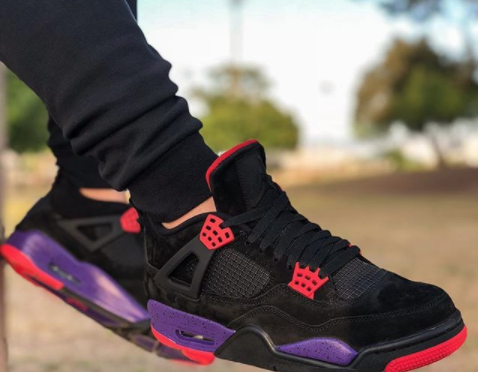Air Jordan 4 Raptors: (127, 137, 468, 372), (1, 167, 225, 368)
